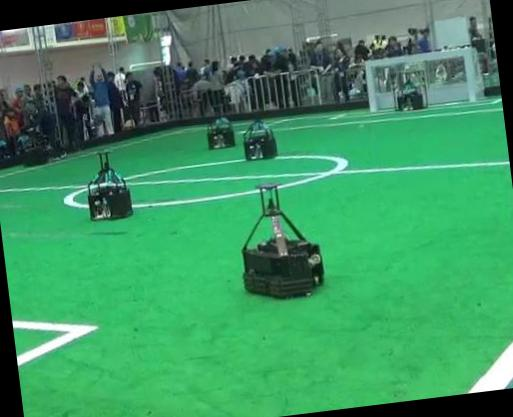goal: (463, 48, 474, 100), (366, 62, 377, 111)
robot: (241, 183, 322, 296), (87, 151, 132, 218), (243, 112, 277, 158), (393, 68, 427, 108), (207, 101, 234, 148)
